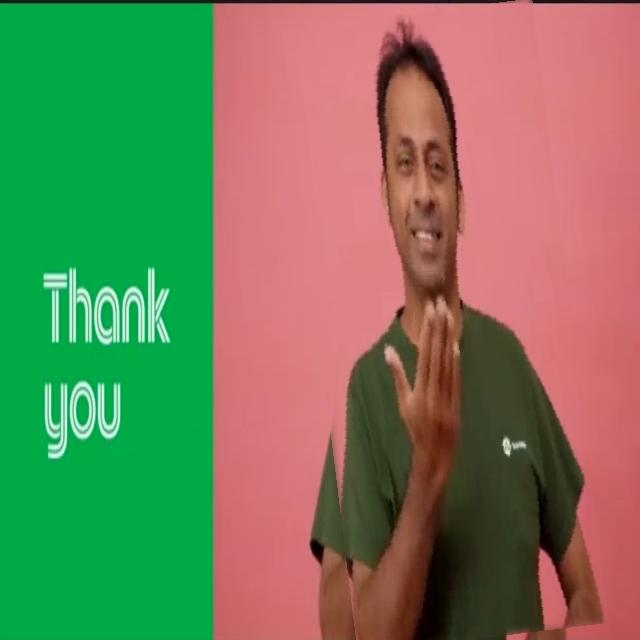ThankYou: (299, 4, 589, 640)
